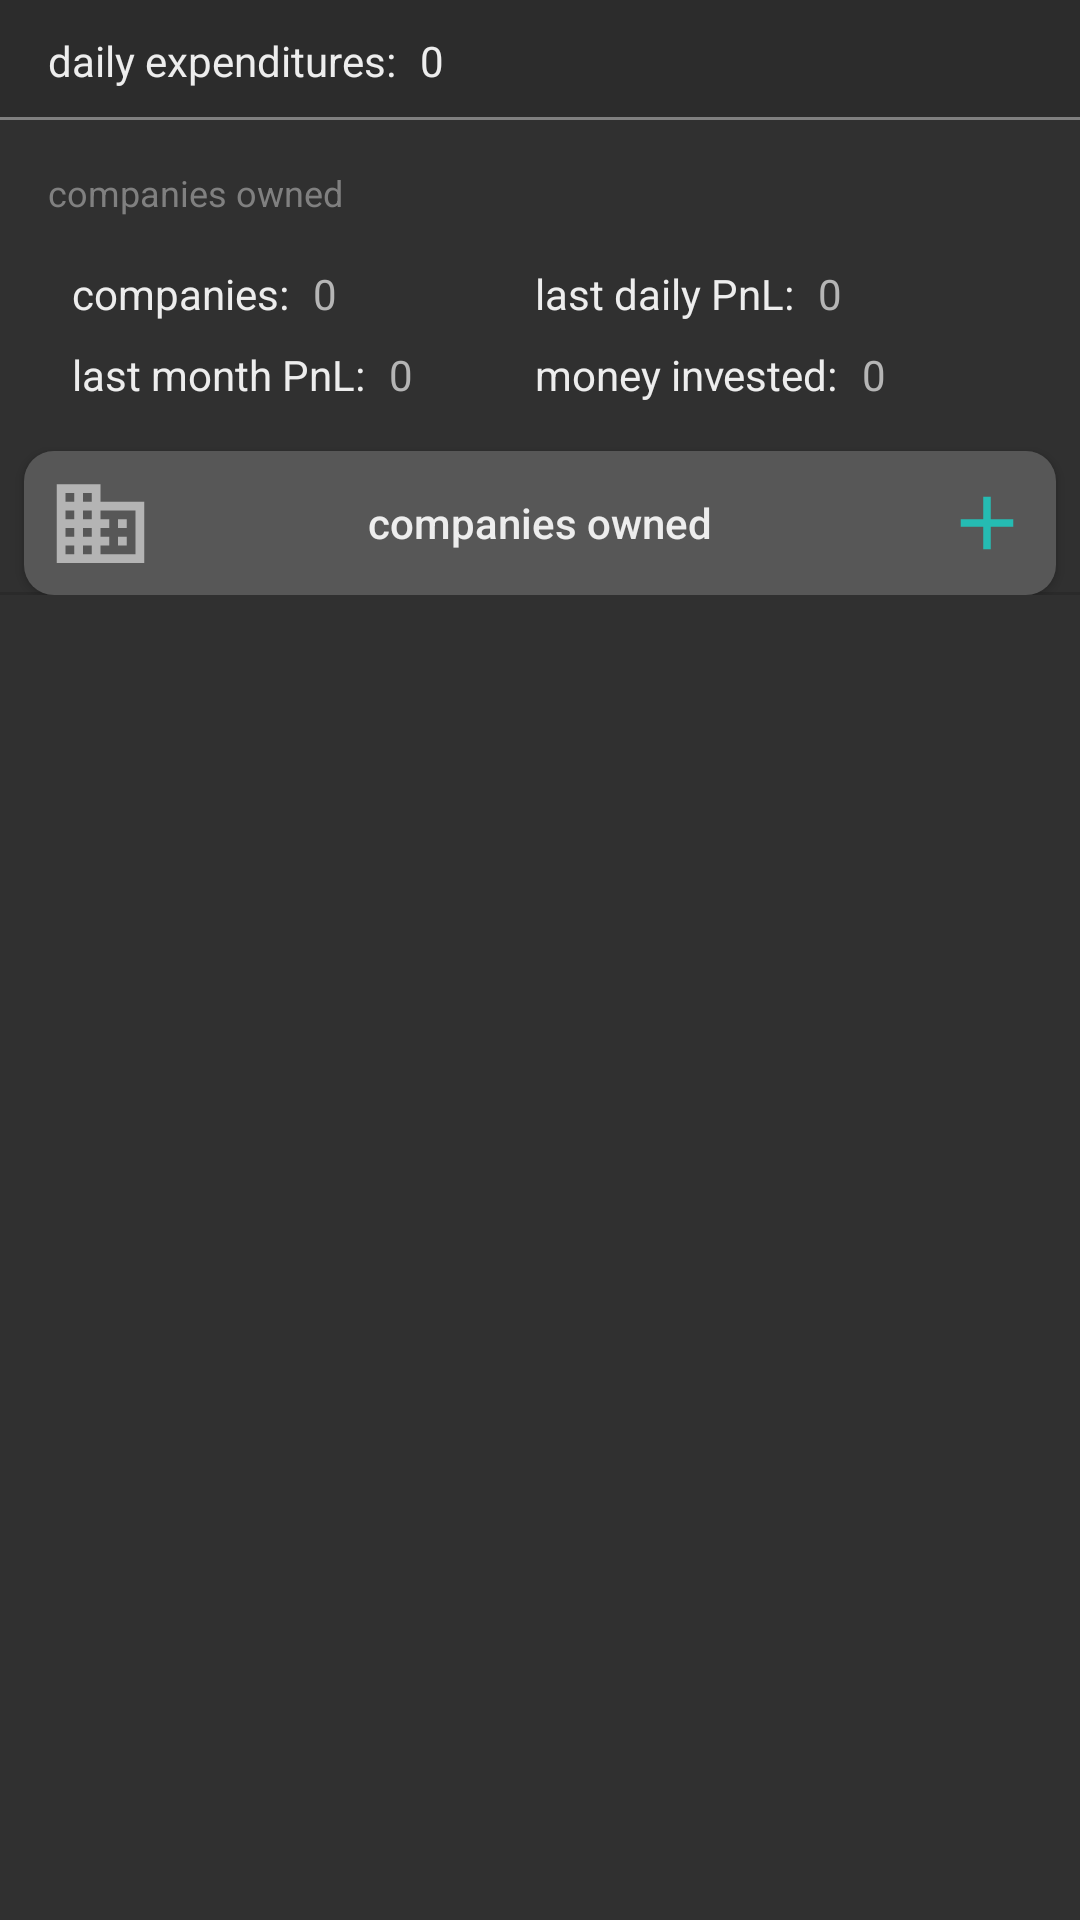

Where icons sit on this 1080px x 1920px app screen, as bbox=(x1, y1, x2, y2):
add: bbox=(960, 496, 1014, 550)
business: bbox=(57, 484, 144, 563)
